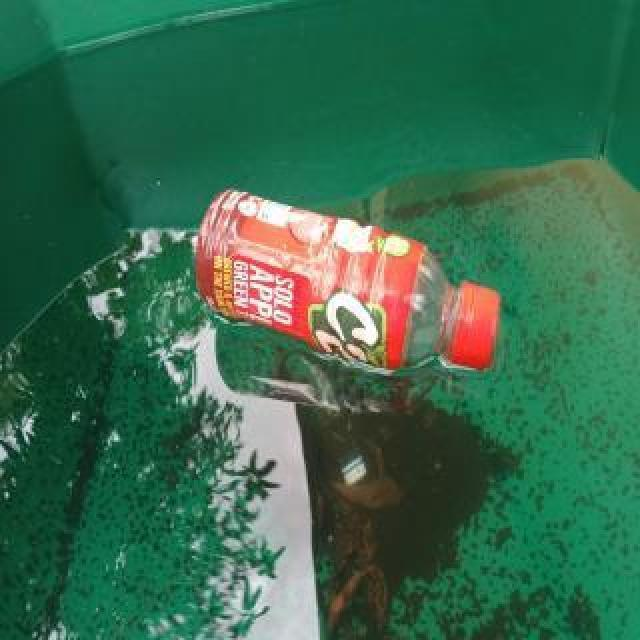bottle: (192, 187, 502, 393)
